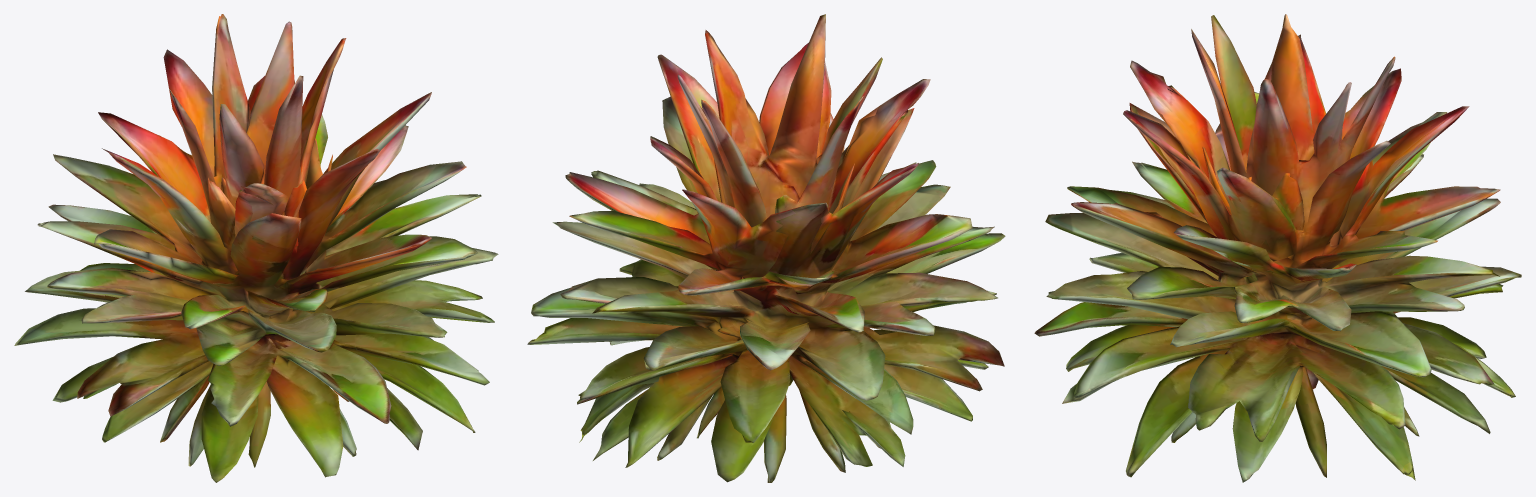
Rendered from PRP_Pineapple.glb.
3 views of the same model, side by side, from view 1: azimuth 30°, elevation 25°; view 2: azimuth 150°, elevation 25°; view 3: azimuth 270°, elevation 25° (orthographic).
Parts seen in each view (by area): view 1: Object_2; view 2: Object_2; view 3: Object_2.
Boxes of the visible parts, left/top/right/bottom form: Object_2: left=14, top=14, right=498, bottom=482; Object_2: left=527, top=14, right=1005, bottom=482; Object_2: left=1034, top=14, right=1521, bottom=482.
Size of the model in its own units: 0.2282 by 0.2091 by 0.2299.
Materials: 1 (1 with a texture image).
